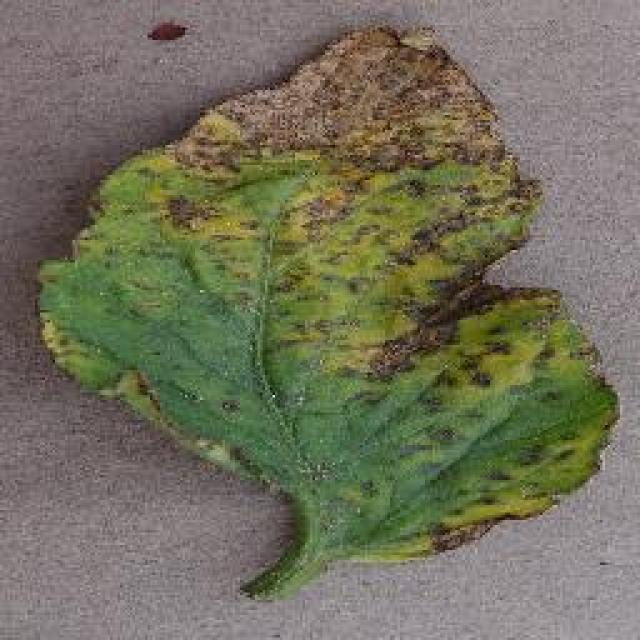Tomato bacterial spot leaf: (28, 22, 625, 570)
